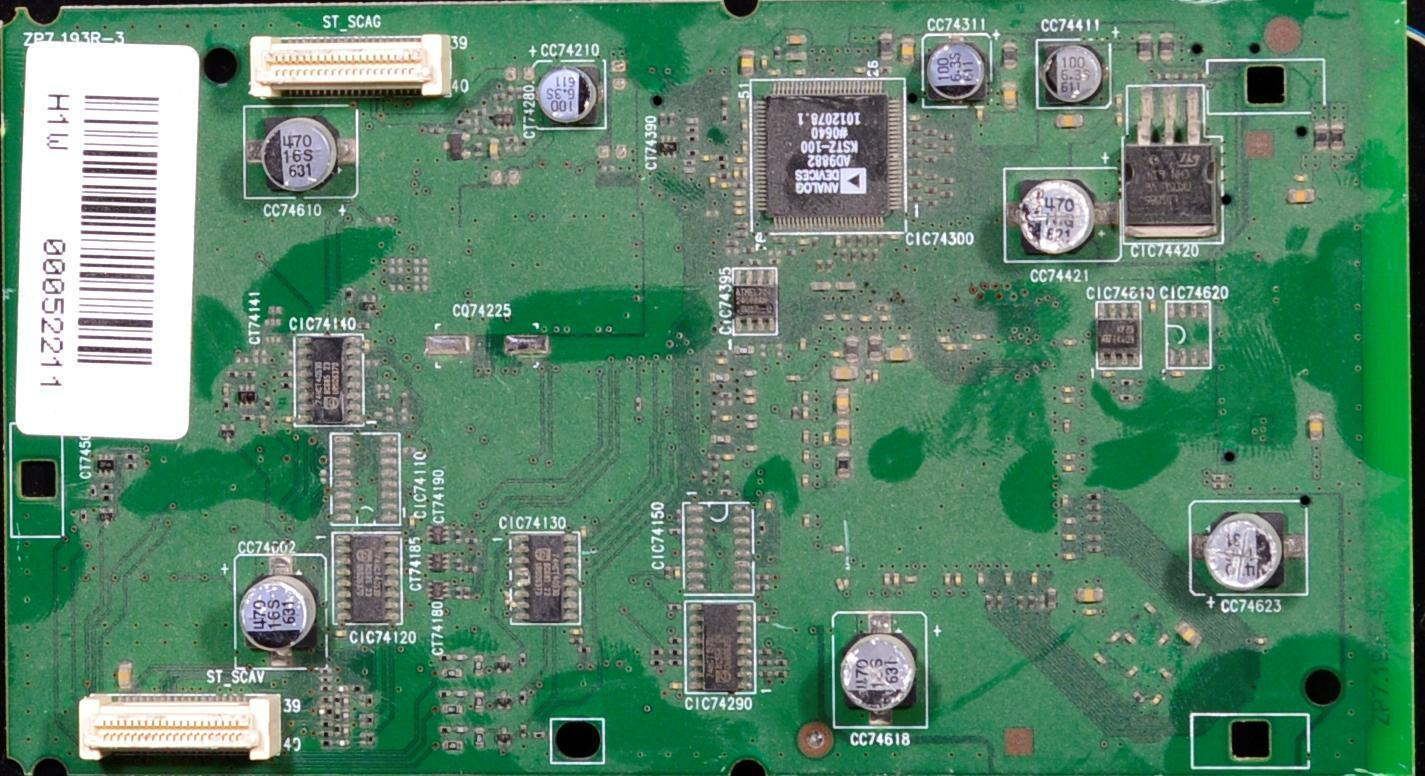Capacitor: (242, 106, 360, 201), (233, 558, 326, 669), (1010, 169, 1106, 261), (1192, 499, 1284, 591), (843, 626, 919, 715), (1039, 40, 1110, 110), (532, 65, 606, 130), (922, 40, 988, 99), (1049, 109, 1088, 137), (1000, 78, 1021, 119), (829, 360, 857, 389), (737, 50, 761, 83), (836, 420, 858, 453), (1176, 621, 1201, 647), (1306, 412, 1325, 445), (831, 389, 853, 417), (899, 37, 918, 66), (878, 342, 903, 364), (782, 29, 807, 51), (1077, 587, 1105, 606), (486, 135, 501, 164), (807, 279, 836, 294), (836, 282, 858, 293)
Connector: (77, 692, 284, 765), (248, 35, 471, 98)
IC: (747, 81, 909, 233), (1125, 84, 1221, 240), (678, 501, 758, 601), (504, 531, 586, 626), (326, 430, 406, 525), (328, 531, 404, 625), (684, 600, 754, 700), (294, 336, 368, 425), (724, 268, 776, 342), (1166, 300, 1215, 373), (1092, 301, 1145, 367)
Resistor: (877, 30, 902, 66), (999, 39, 1022, 74), (1131, 34, 1158, 62), (1313, 120, 1331, 157), (832, 451, 853, 479), (864, 335, 883, 364), (1329, 123, 1346, 155), (843, 336, 861, 366), (768, 41, 786, 69), (468, 655, 485, 677), (1155, 29, 1168, 57), (474, 727, 488, 753), (445, 669, 465, 684), (441, 702, 462, 716), (472, 691, 484, 712), (443, 741, 463, 753)
